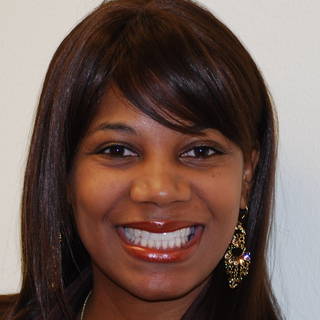eye: (91, 139, 143, 164), (175, 140, 227, 165)
